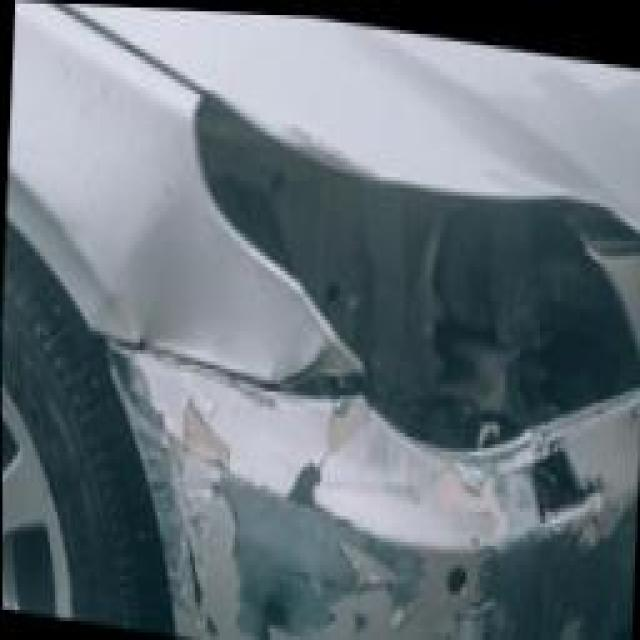Bumper: (110, 339, 640, 640)
Light: (245, 158, 621, 434)
